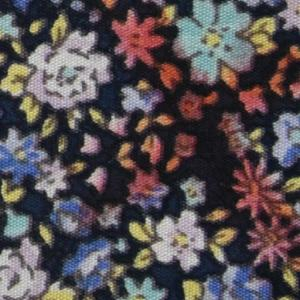Stain: (75, 1, 300, 281)
